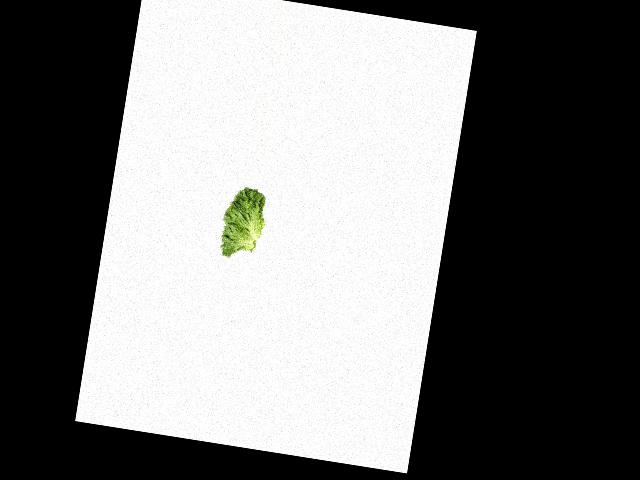lettuce: (212, 183, 273, 262)
